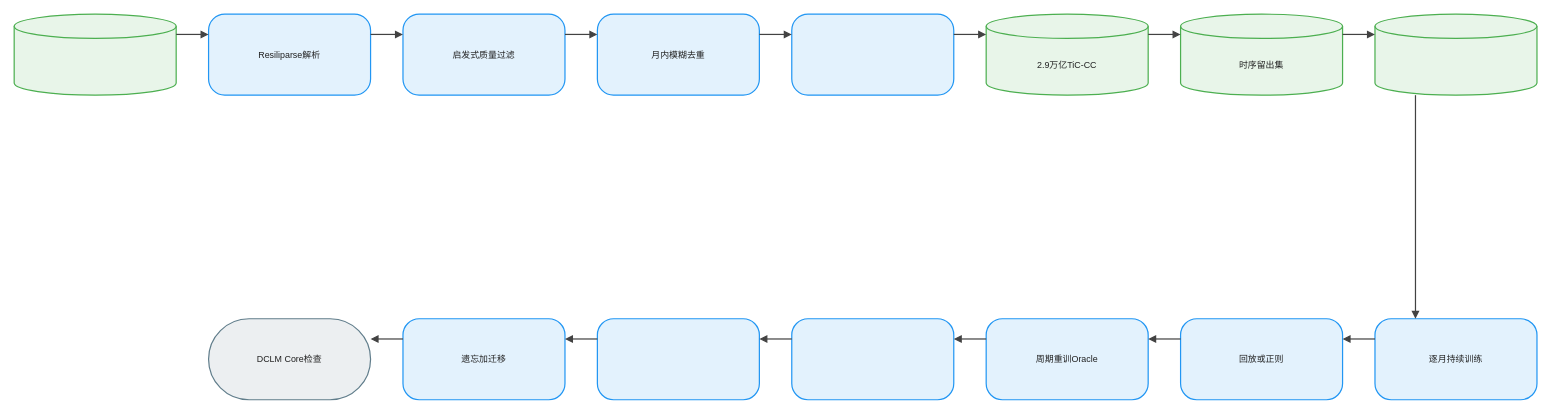
Image size: 1552x415. Some labels were removed from this diagram. Here are the shapes that lost their labels. From the top down, the centre of each, then its label:
At (x=94, y=54): "114个月度CC转储".
At (x=872, y=54): "因果性保护".
At (x=1455, y=54): "StackE加代码文档".
At (x=678, y=359): "后向/同分布/前向".
At (x=872, y=359): "时间困惑度".
